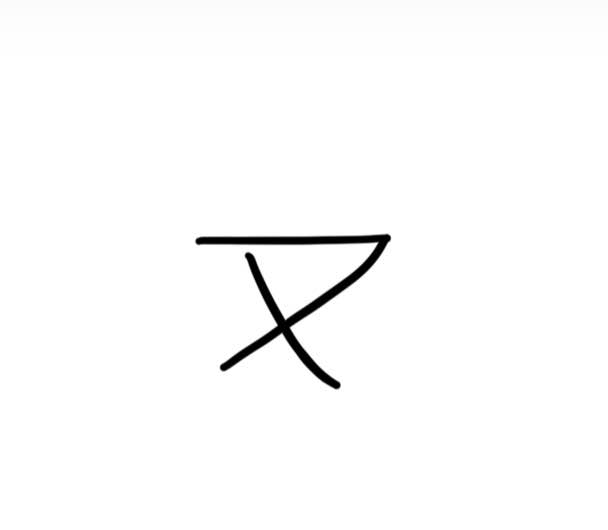nu: (172, 226, 397, 396)
